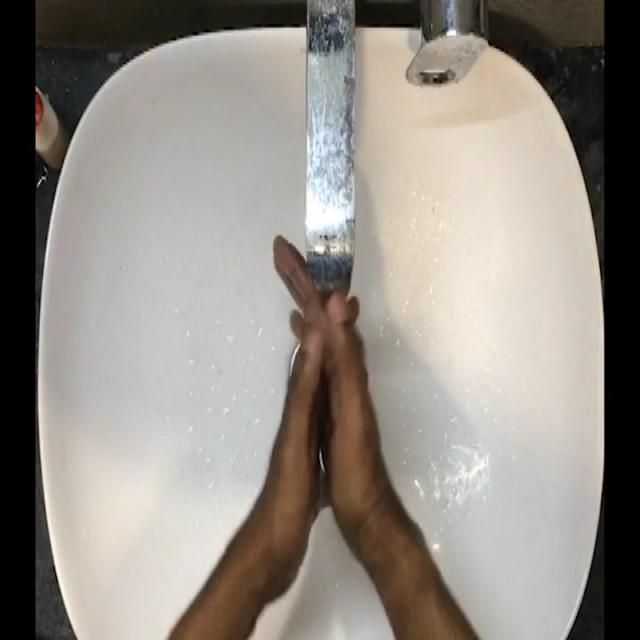step_3: (240, 223, 388, 540)
